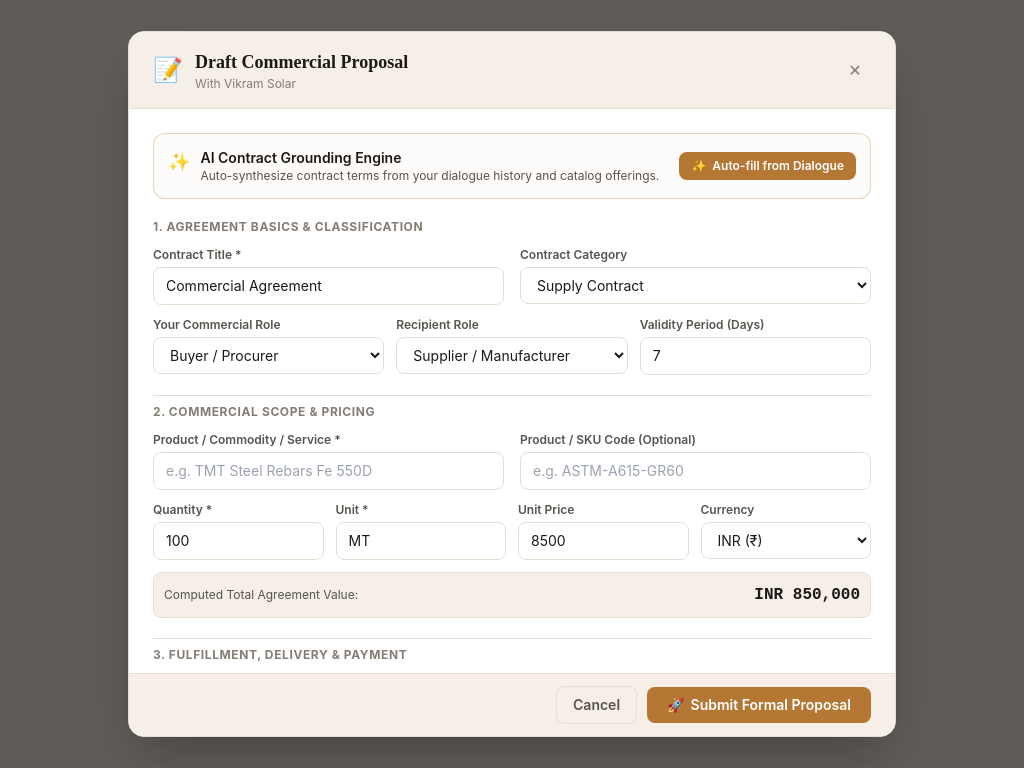
Test: Commercial Proposals Hub & Contract Sheet (Subphase 6) › 3. ProposalDraftModal Component › handles AI auto-fill and form submission in initial draft mode
The width and height of the screenshot is (1024, 768).
Later steps or results of the test are not shown.
Check: the heading "Draft Commercial Proposal" is shown, box [195,48,408,76]
// Trigger AI Auto-fill
Click the text "Auto-fill from Dialogue": click(778, 166) [712,158,844,174]
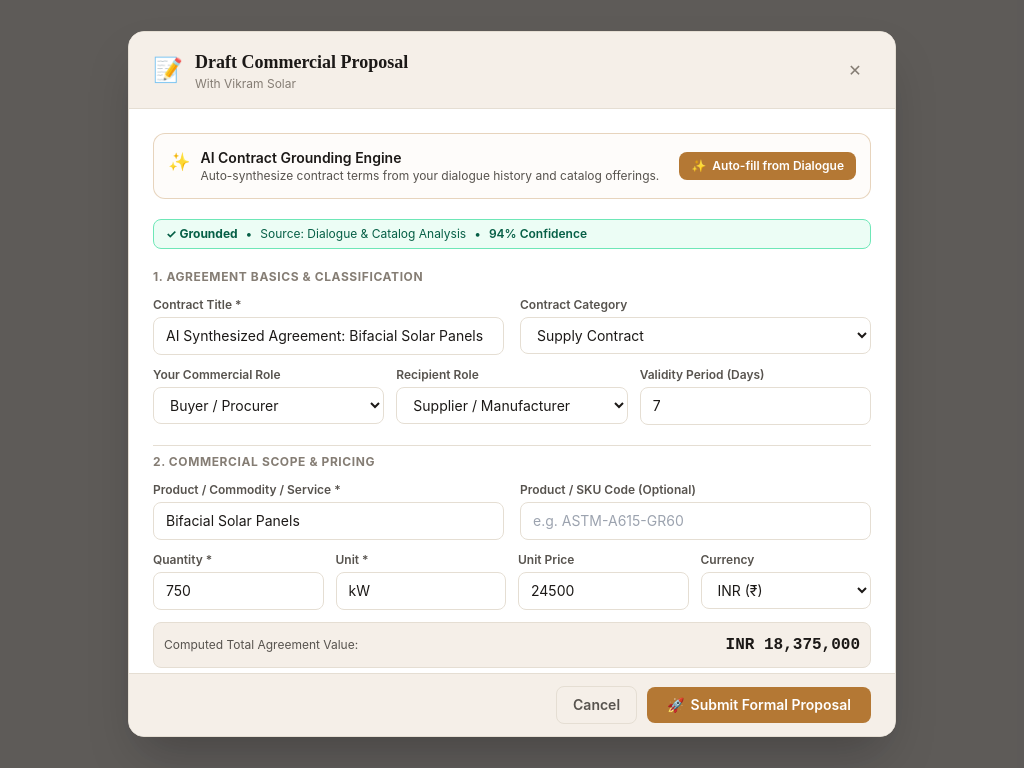
Check: the text "94% Confidence" is shown, box [489,226,587,242]
